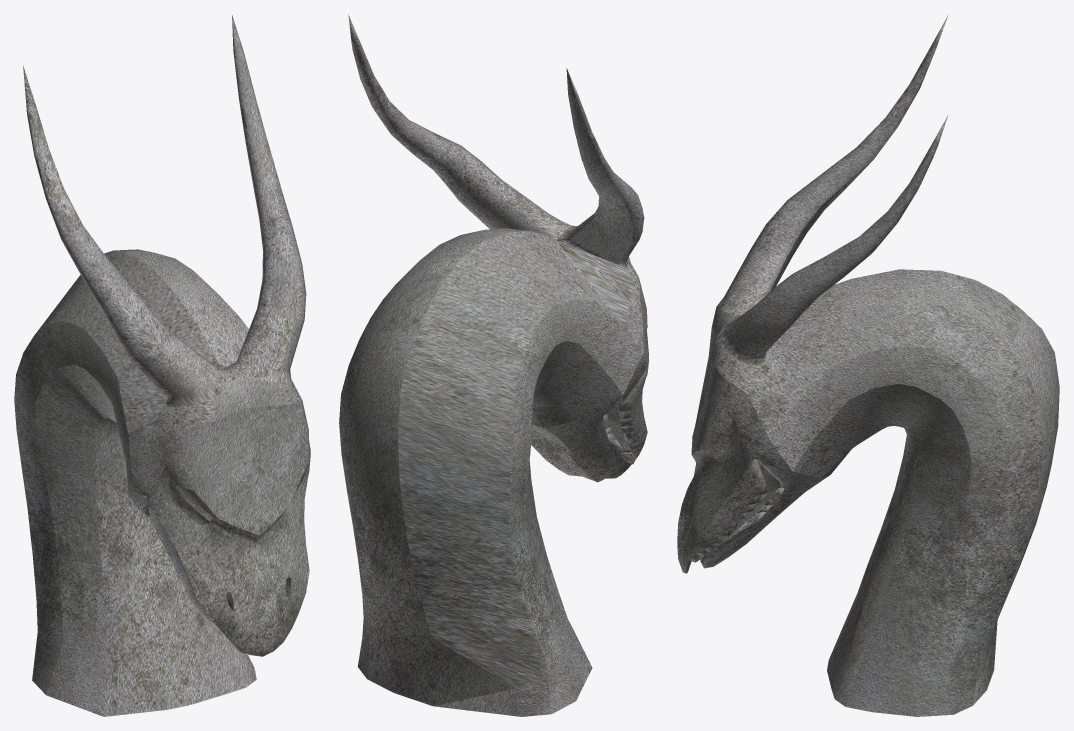
Rendered from LightDragonhead.fbx.
3 renders of one model, left to right at view 1: azimuth 30°, elevation 25°; view 2: azimuth 150°, elevation 25°; view 3: azimuth 270°, elevation 25°, orthographic. The views are drawn at different scales.
Visible parts, largest first — view 1: polySurface2; view 2: polySurface2; view 3: polySurface2.
Boxes of the visible parts, <box> form: polySurface2: <box>14,15,310,716</box>; polySurface2: <box>339,14,648,716</box>; polySurface2: <box>677,15,1059,716</box>.
Bounding box in the file's own units: 53.61 × 143 × 81.52.
